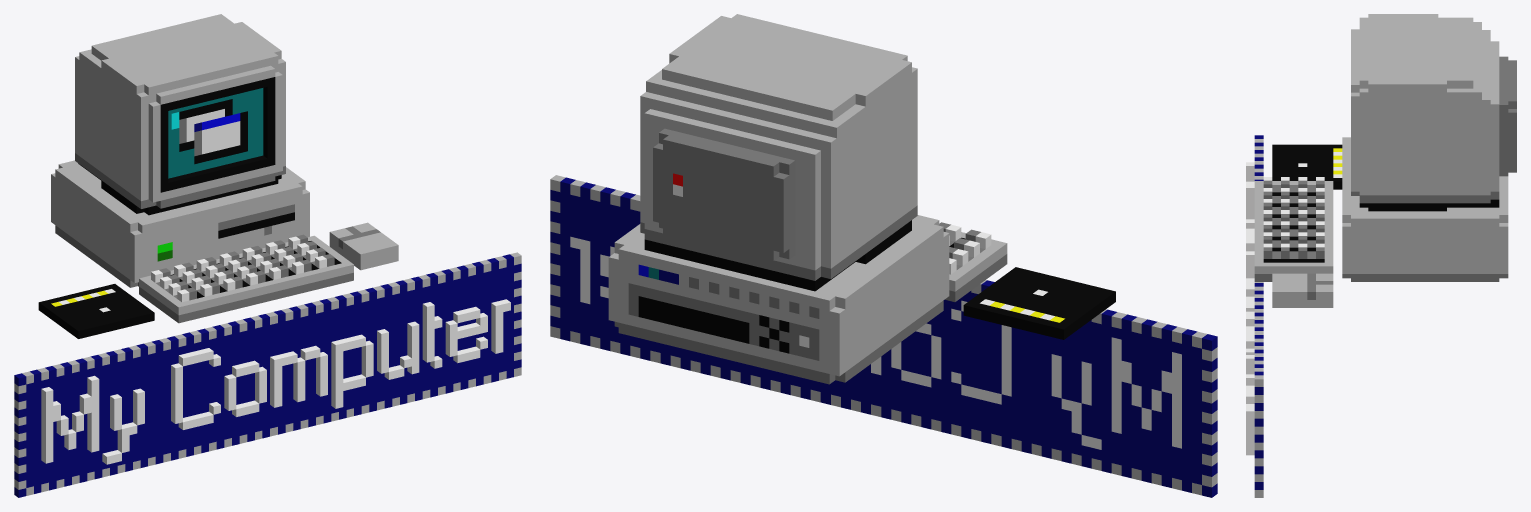
The model's file is computer.gltf.
The picture shows the model from 3 angles, left to right: view 1: azimuth 30°, elevation 25°; view 2: azimuth 150°, elevation 25°; view 3: azimuth 270°, elevation 25°; orthographic projection. The views are drawn at different scales.
Parts seen in each view (by area): view 1: Object_2; view 2: Object_2; view 3: Object_2.
Boxes of the visible parts, <box> form: Object_2: <box>14,14,521,497</box>; Object_2: <box>550,14,1217,497</box>; Object_2: <box>1246,14,1516,497</box>.
Size of the model in its own units: 6.6 by 4.1 by 3.1.
1 material, 1 textured.
